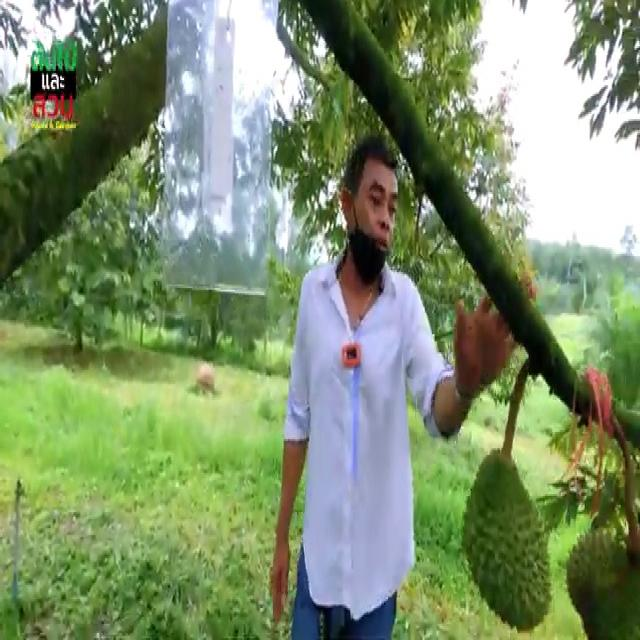durian: (461, 448, 554, 636), (566, 521, 639, 636)
